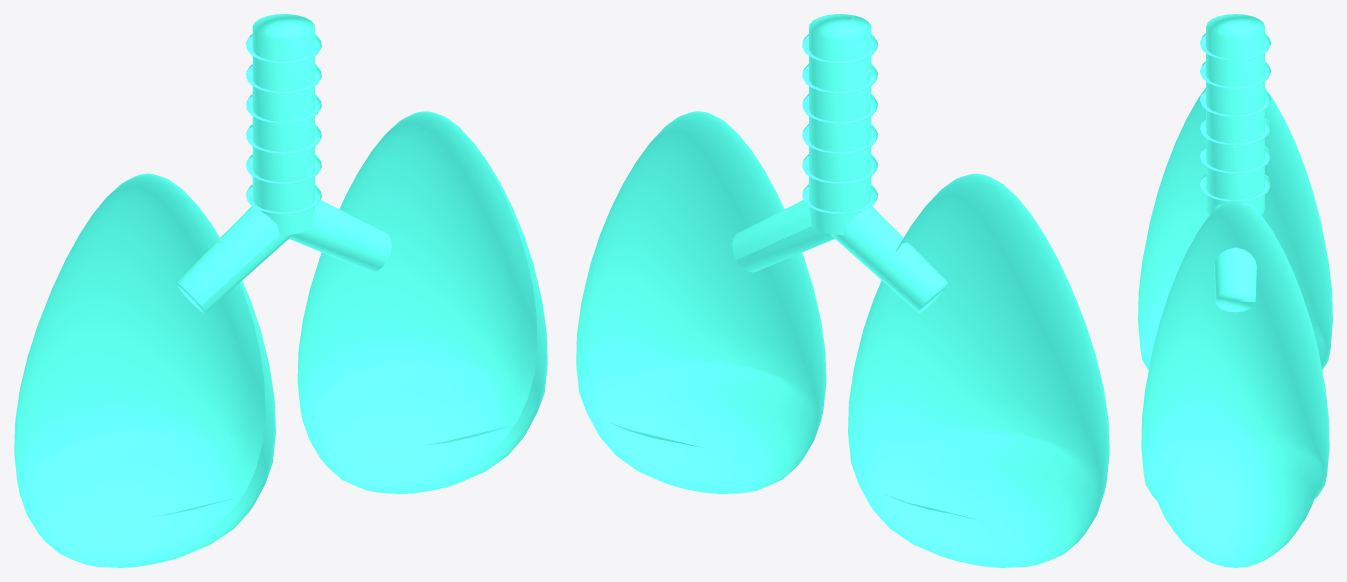
The model's file is lungs.glb.
3 views of the same model, side by side, from view 1: azimuth 30°, elevation 25°; view 2: azimuth 150°, elevation 25°; view 3: azimuth 270°, elevation 25° (orthographic). The views are drawn at different scales.
Visible parts, largest first — view 1: AnatomicalLungs; view 2: AnatomicalLungs; view 3: AnatomicalLungs.
Boxes of the visible parts, <box> form: AnatomicalLungs: <box>14,14,547,567</box>; AnatomicalLungs: <box>576,14,1109,567</box>; AnatomicalLungs: <box>1138,14,1332,567</box>.
Size of the model in its own units: 3.03 by 2.8 by 1.06.
